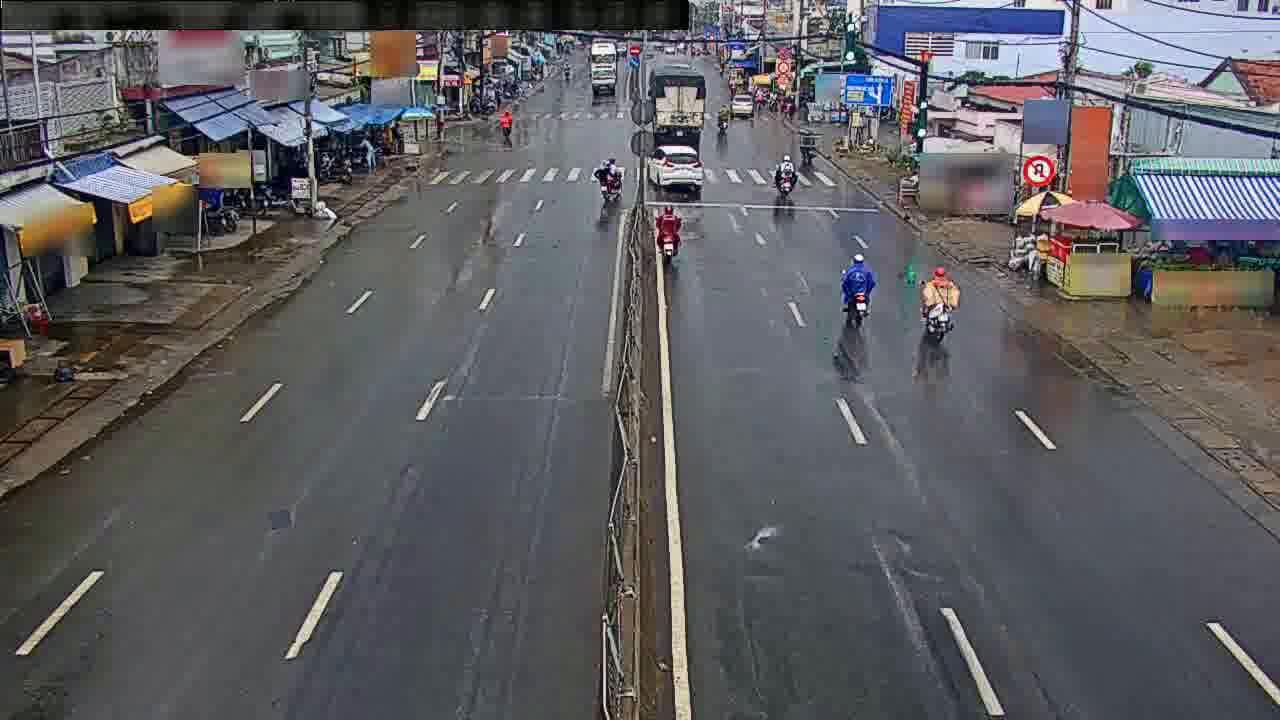8: (648, 67, 708, 140)
container: (646, 143, 704, 197), (722, 95, 758, 120)
motorbike: (909, 260, 960, 335), (839, 247, 874, 325), (653, 202, 684, 261), (790, 121, 828, 161), (772, 154, 798, 198), (595, 159, 618, 202), (711, 102, 730, 135), (497, 110, 515, 140)
